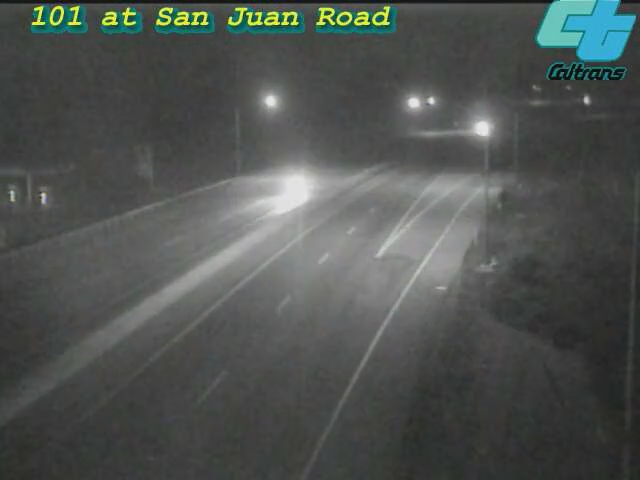vehicle: (256, 148, 336, 228), (456, 103, 506, 153)
